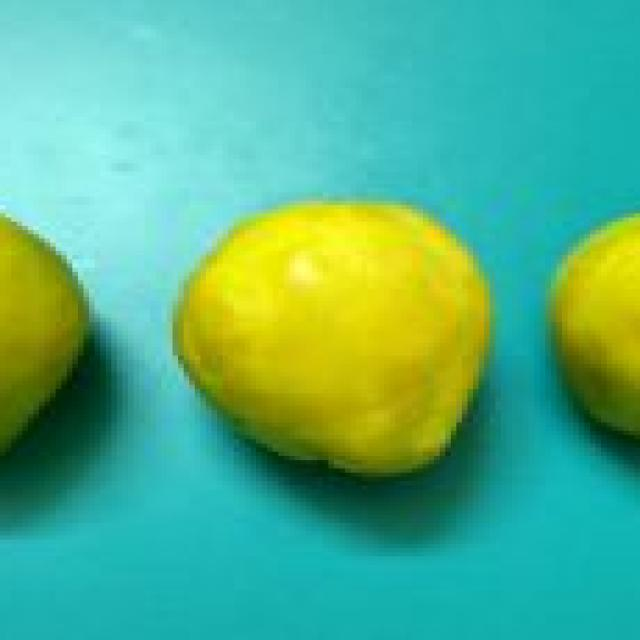Good_Guava 5-7 days: (173, 201, 490, 481), (0, 213, 89, 455), (551, 213, 640, 448)
